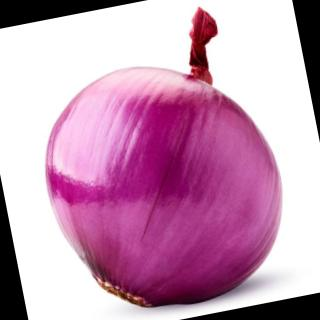Bawang Merah: (15, 1, 304, 320)
